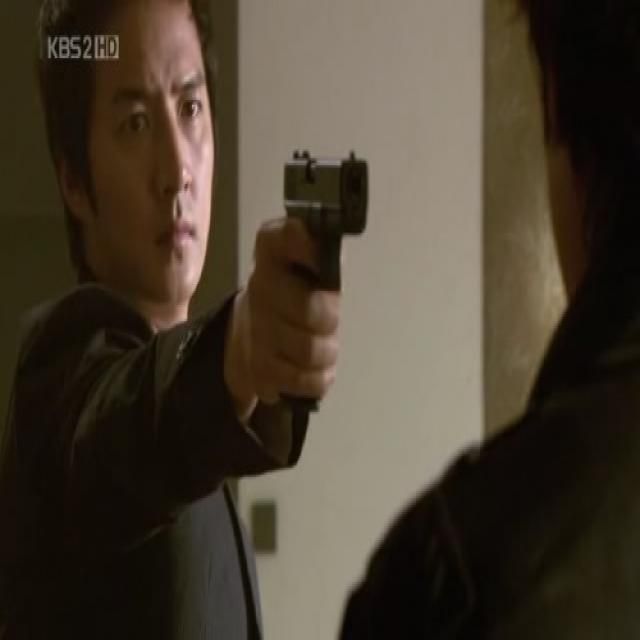weapons: (255, 123, 375, 425)
